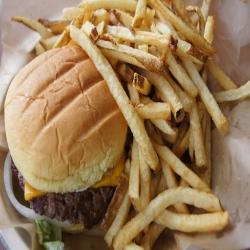burger: (9, 53, 132, 239)
fries: (93, 15, 240, 236)
